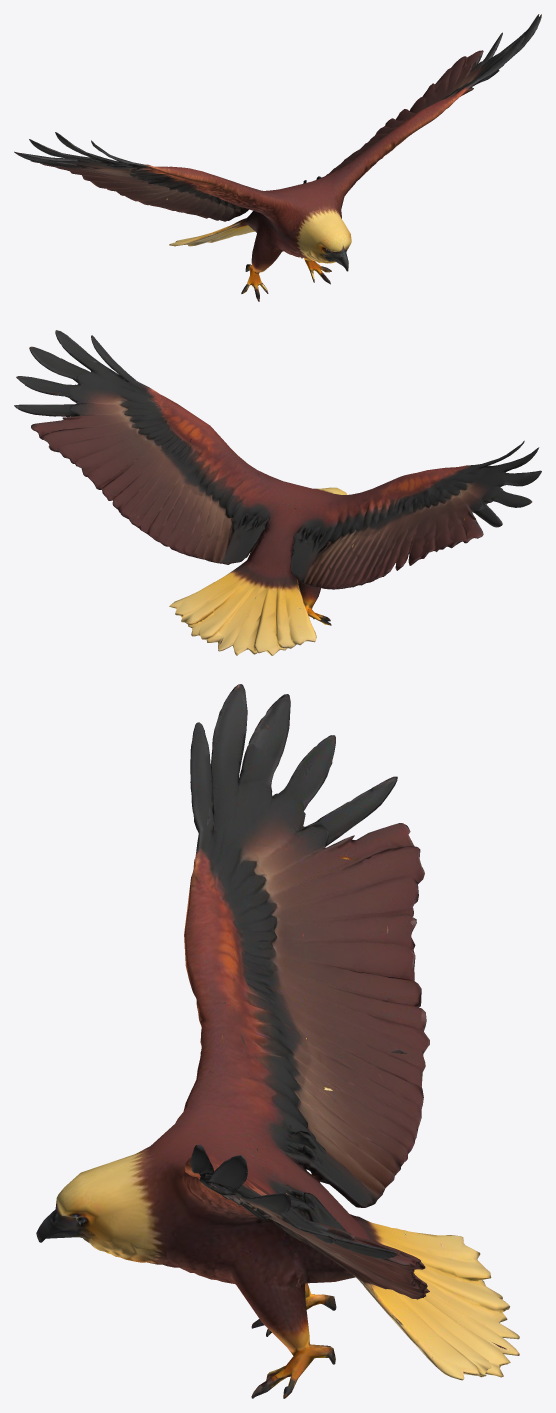
The model's file is eagle.glb.
3 views of the same model, one above another, from view 1: azimuth 30°, elevation 25°; view 2: azimuth 150°, elevation 25°; view 3: azimuth 270°, elevation 25° (orthographic). The views are drawn at different scales.
Size of the model in its own units: 1.9 by 0.7812 by 0.771.
Materials: 1 (1 with a texture image).
